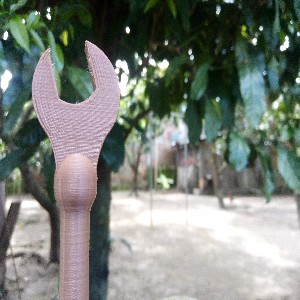spanner: (31, 39, 120, 300)
